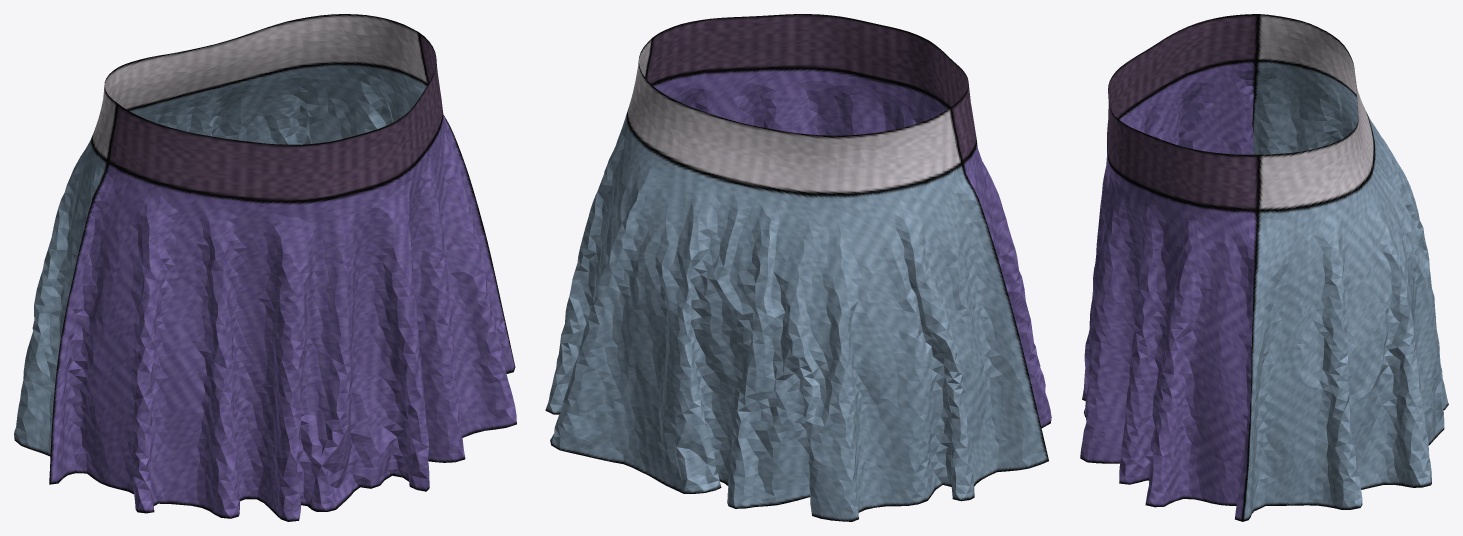
The model's file is valid_garment_lower_sim.obj.
The picture shows the model from 3 angles, left to right: view 1: azimuth 30°, elevation 25°; view 2: azimuth 150°, elevation 25°; view 3: azimuth 270°, elevation 25°; orthographic projection. The views are drawn at different scales.
Size of the model in its own units: 48.87 by 36.87 by 35.25.
1 material, 1 textured.
